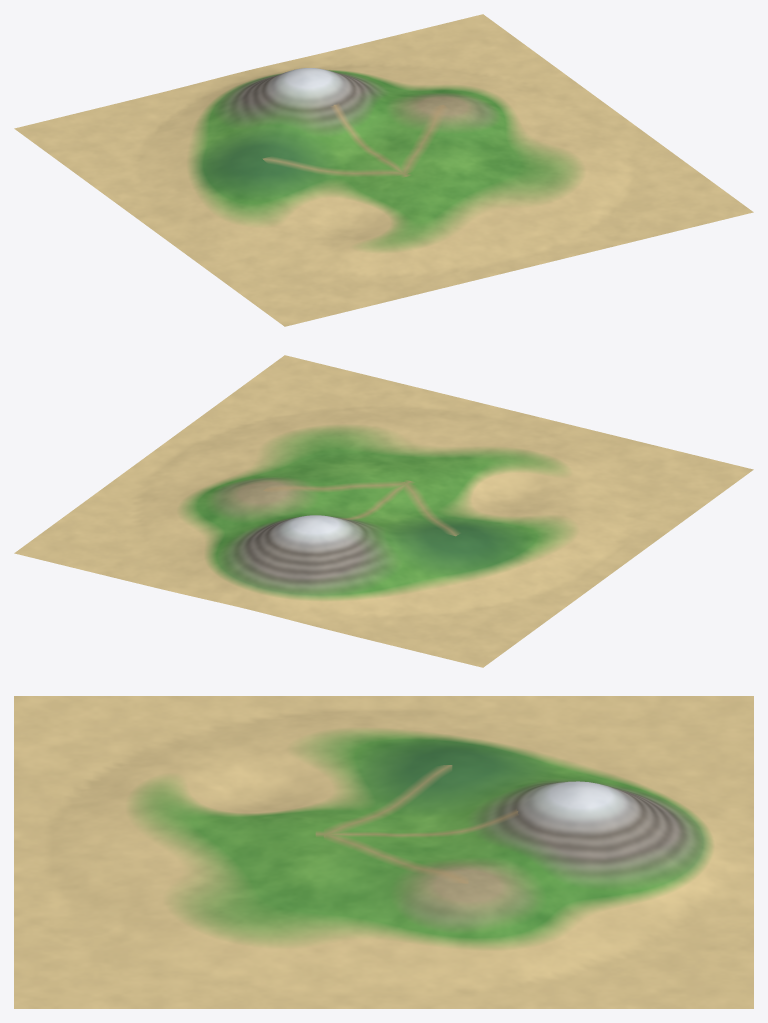
The model's file is terrain.glb.
3 views of the same model, one above another, from view 1: azimuth 30°, elevation 25°; view 2: azimuth 150°, elevation 25°; view 3: azimuth 270°, elevation 25° (orthographic). The views are drawn at different scales.
Parts seen in each view (by area): view 1: terrain; view 2: terrain; view 3: terrain.
Part boxes in pixels (x1,y1,x2,y2): terrain: [14, 14, 753, 326]; terrain: [14, 355, 753, 667]; terrain: [14, 696, 753, 1008].
Size of the model in its own units: 2800 by 260 by 2800.
Materials: 1 (1 with a texture image).
